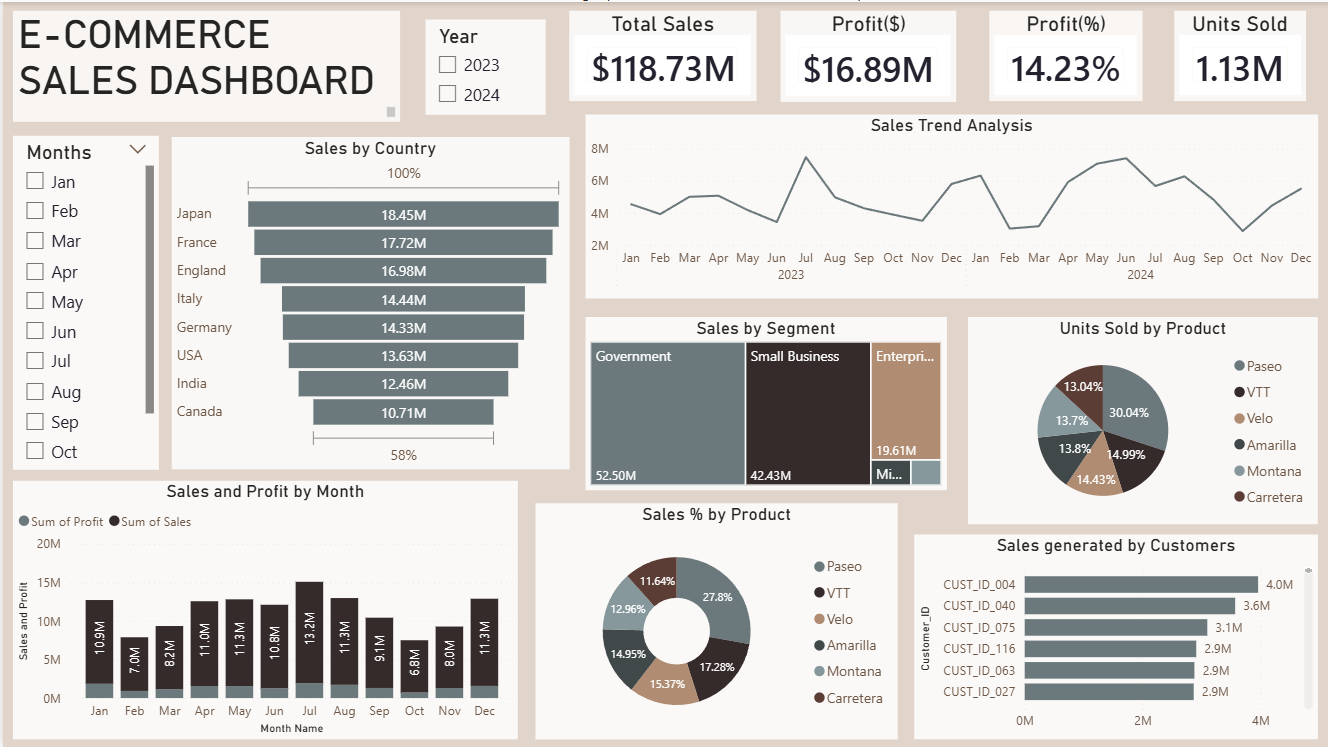

What the dashboard file says about the page in this screenshot:
{"tool":"powerbi","page":{"name":"Page 1","canvas":[1280,720],"ordinal":0},"visuals":[{"type":"cardVisual","title":"Total Sales","fields":{"Data":["Sum(Sales Data.Sales)"]},"box":[546.6,8.6,181,86.8],"z":0},{"type":"cardVisual","title":"Profit($)","fields":{"Data":["Sum(Sales Data.Profit)"]},"box":[750.8,8.6,170,88],"z":1000},{"type":"cardVisual","title":"Units Sold","fields":{"Data":["Sum(Sales Data.Units Sold)"]},"box":[1129.9,8.6,127.2,86.8],"z":2000},{"type":"cardVisual","title":"Profit(%)","fields":{"Data":["Sales Data.Profit%"]},"box":[951.4,8.6,148,86.8],"z":3000},{"type":"donutChart","title":"Sales % by Product","fields":{"Y":["Sum(Sales Data.Sales)"],"Category":["Sales Data.Product_Name"]},"box":[513.9,483.8,349.9,228],"z":6000},{"type":"columnChart","title":"Sales and Profit by Month","fields":{"Category":["Sales Data.Month Name"],"Y":["Sum(Sales Data.Profit)","Sum(Sales Data.Sales)"]},"box":[9.7,462.1,487.4,249.7],"z":7000},{"type":"treemap","title":" Sales by Segment","fields":{"Group":["Sales Data.Segment"],"Values":["Sum(Sales Data.Sales)"]},"box":[562.5,304.5,348.5,167.5],"z":8000},{"type":"lineChart","title":"Sales Trend Analysis","fields":{"Y":["Sum(Sales Data.Sales)"],"Category":["Sales Data.Date.Variation.Date Hierarchy.Year","Sales Data.Month Name"]},"box":[562.2,108.6,707,177.3],"z":8001},{"type":"slicer","fields":{"Values":["Sales Data.Year"]},"box":[407.2,17.1,116.2,91.7],"z":8002},{"type":"clusteredBarChart","title":" Sales generated by Customers","fields":{"Category":["Sales Data.Customer_ID"],"Y":["Sum(Sales Data.Sales)"]},"box":[879.5,513.9,389.7,197.9],"z":8005},{"type":"slicer","fields":{"Values":["Sales Data.Month Name"]},"box":[9.7,129.1,141.2,322.1],"z":8007},{"type":"textbox","title":"E-COMMERCE                      SALES DASHBOARD","box":[9.7,8.4,374,107.4],"z":8008},{"type":"pieChart","title":"Units Sold by Product ","fields":{"Category":["Sales Data.Product_Name"],"Y":["Sum(Sales Data.Units Sold)"]},"box":[931.4,304,337.8,200.3],"z":8009},{"type":"funnel","title":"Sales by Country","fields":{"Category":["Sales Data.Country"],"Y":["Sum(Sales Data.Sales)"]},"box":[162.9,130.3,383.6,320.9],"z":8010}]}

Visuals, with their boxes in screenshot pixels (x1, y1, x2, y2), scaled from the page's 1280x720 canvas onto the 1328x747 screenshot:
"Total Sales" cardVisual: x1=567, y1=9, x2=755, y2=99
"Profit($)" cardVisual: x1=779, y1=9, x2=955, y2=100
"Units Sold" cardVisual: x1=1172, y1=9, x2=1304, y2=99
"Profit(%)" cardVisual: x1=987, y1=9, x2=1141, y2=99
"Sales % by Product" donutChart: x1=533, y1=502, x2=896, y2=738
"Sales and Profit by Month" columnChart: x1=10, y1=479, x2=516, y2=738
" Sales by Segment" treemap: x1=584, y1=316, x2=945, y2=490
"Sales Trend Analysis" lineChart: x1=583, y1=113, x2=1317, y2=297
slicer - Sales Data.Year: x1=422, y1=18, x2=543, y2=113
" Sales generated by Customers" clusteredBarChart: x1=912, y1=533, x2=1317, y2=738
slicer - Sales Data.Month Name: x1=10, y1=134, x2=157, y2=468
"E-COMMERCE                      SALES DASHBOARD" textbox: x1=10, y1=9, x2=398, y2=120
"Units Sold by Product " pieChart: x1=966, y1=315, x2=1317, y2=523
"Sales by Country" funnel: x1=169, y1=135, x2=567, y2=468
